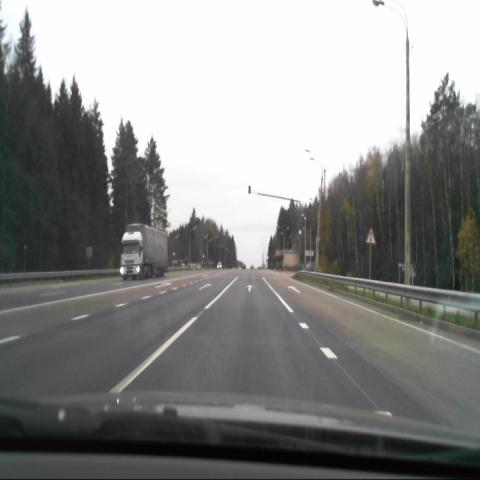1_8: (364, 227, 377, 245)
